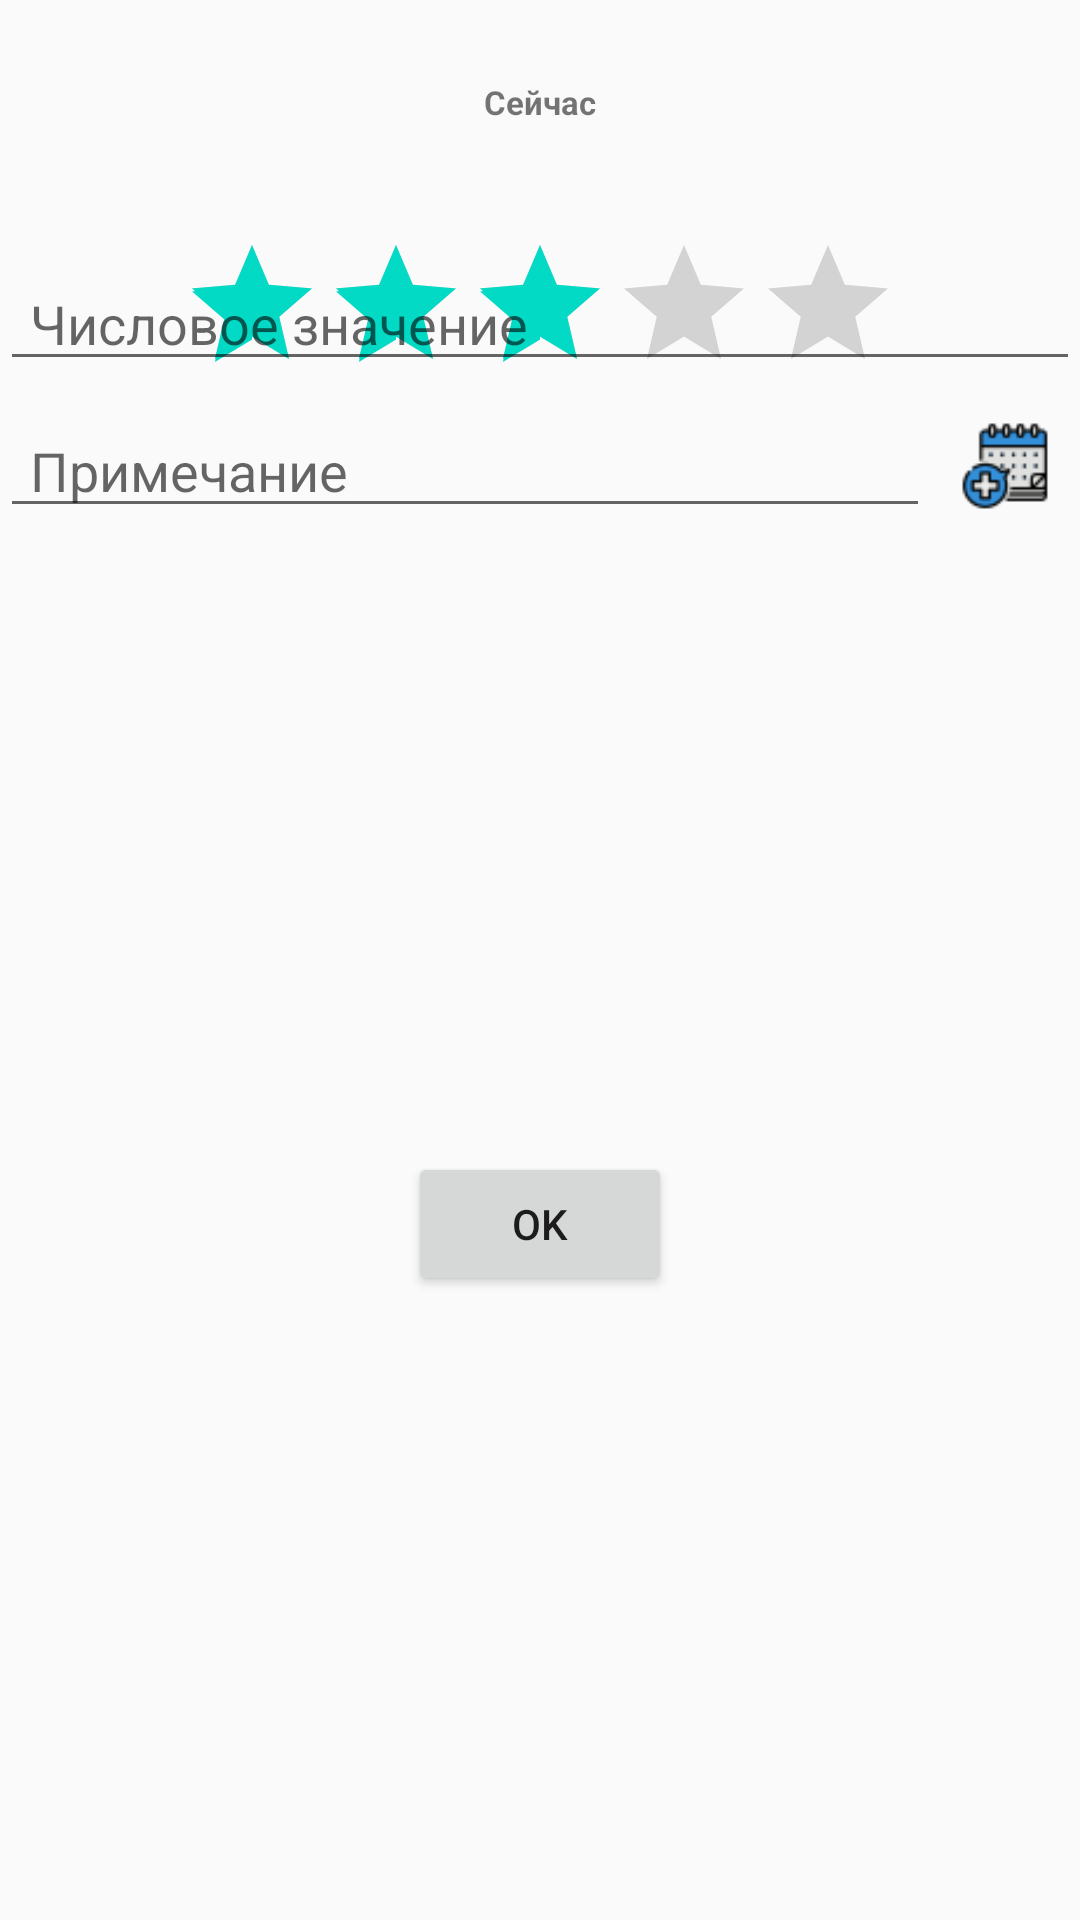

Icon bounding boxes for this 1080*1920 phone screenshot, format rect(x1, y1, x2, y2):
quant date: rect(962, 423, 1048, 509)
